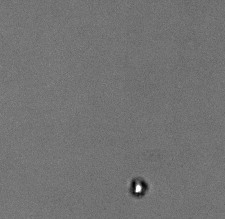Living Cell: (131, 177, 147, 197)
